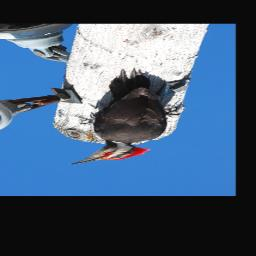Woodpecker: (62, 69, 191, 166)
